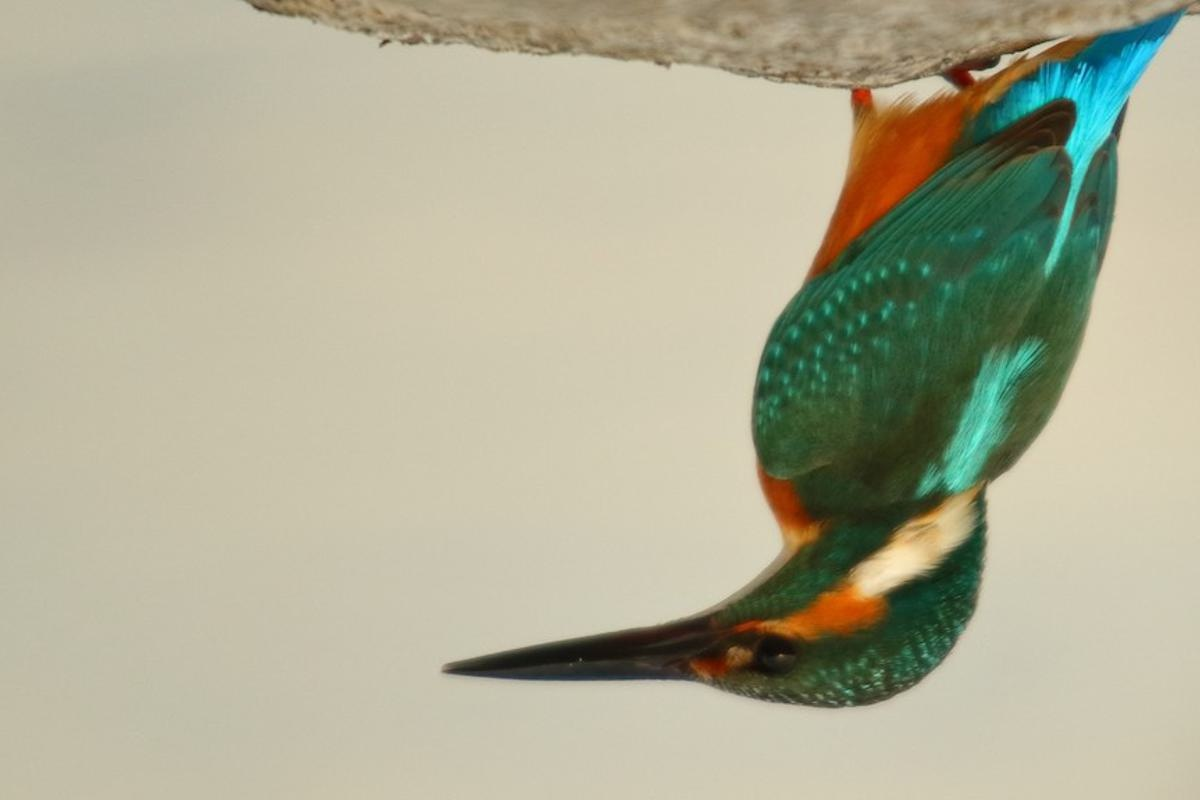kingfisher: (435, 15, 1185, 720)
